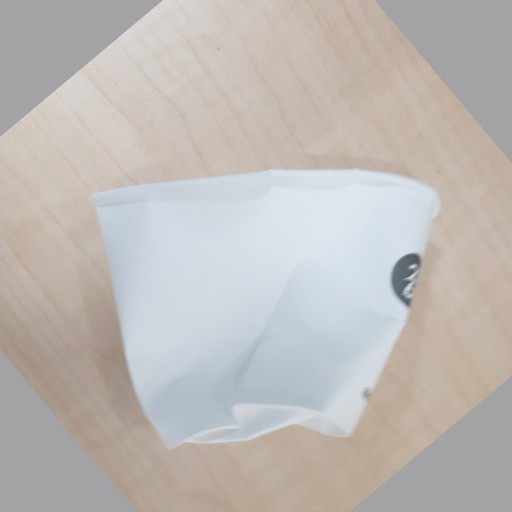Paper_1: (93, 170, 442, 448)
